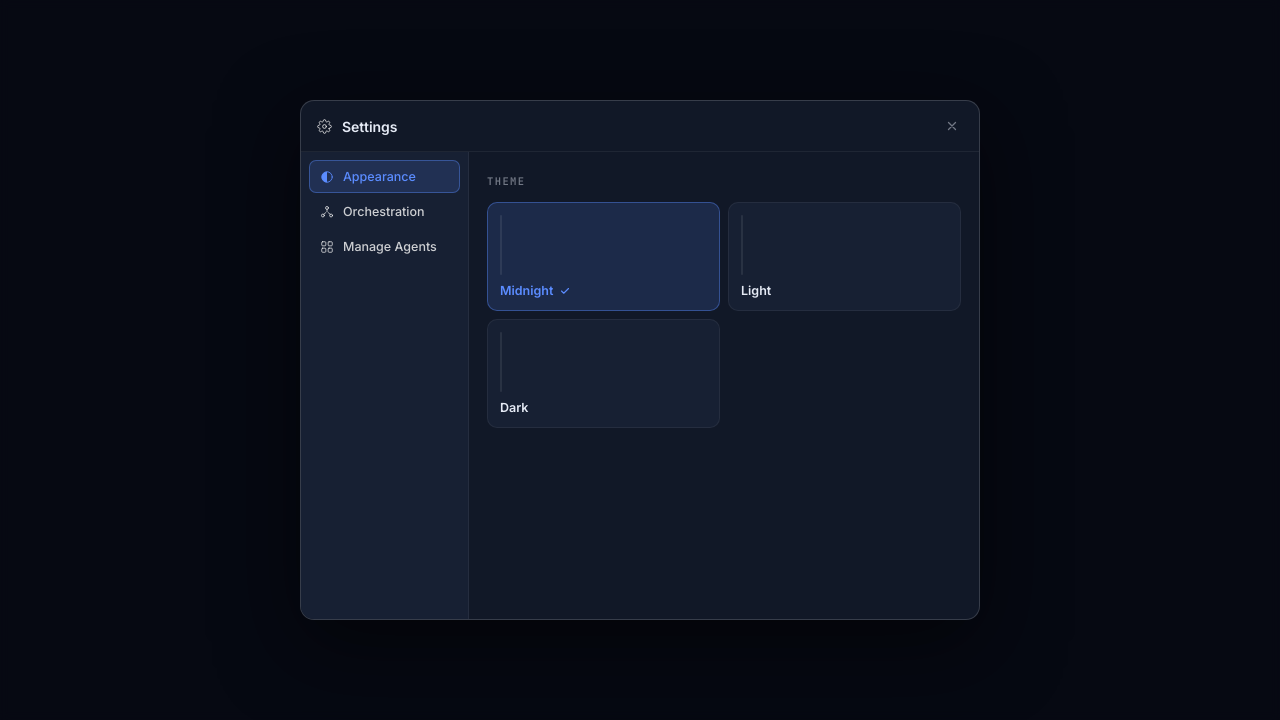
Test: SettingsModal model catalog › does not break the rest of settings when the catalog fails to load
This screenshot has width=1280, height=720.
Step 1. Click the button "Manage Agents" → click(384, 246), box [309, 230, 460, 263]
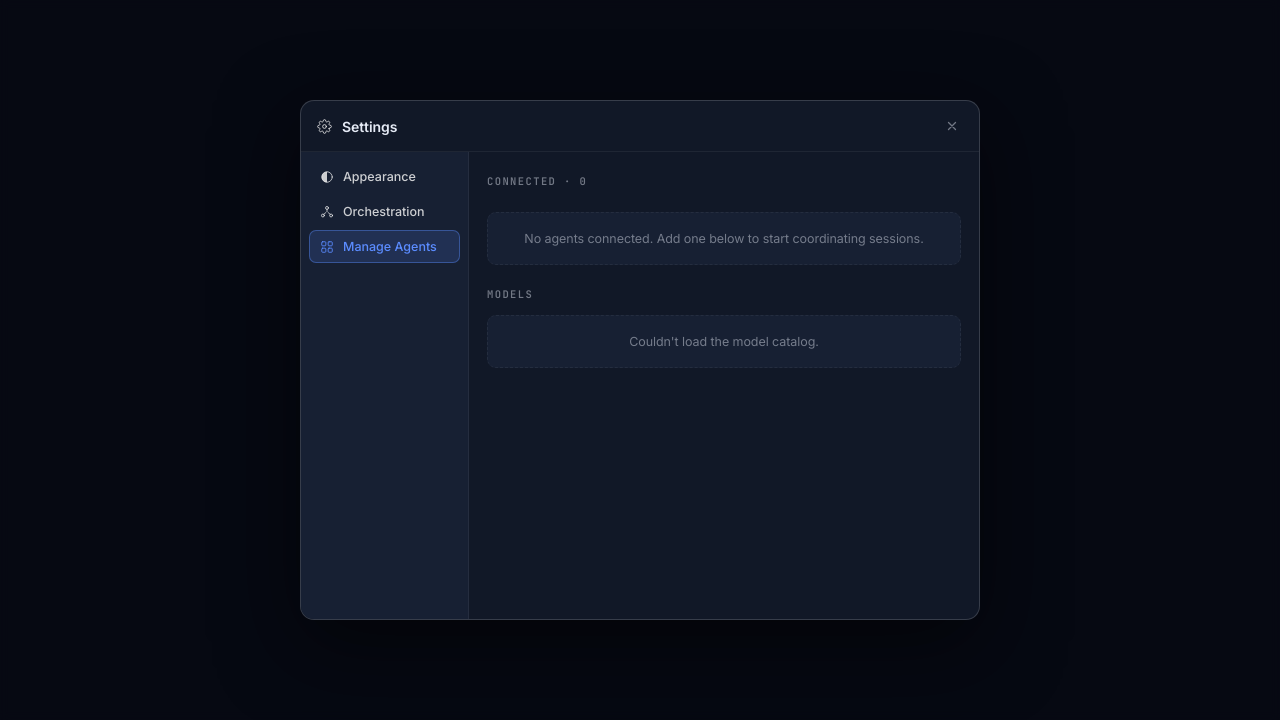
Expected: the text "Couldn't load the model catalog." is shown, [487, 315, 961, 368]
Step 2. Click the button "Appearance" → click(384, 176), box [309, 160, 460, 193]
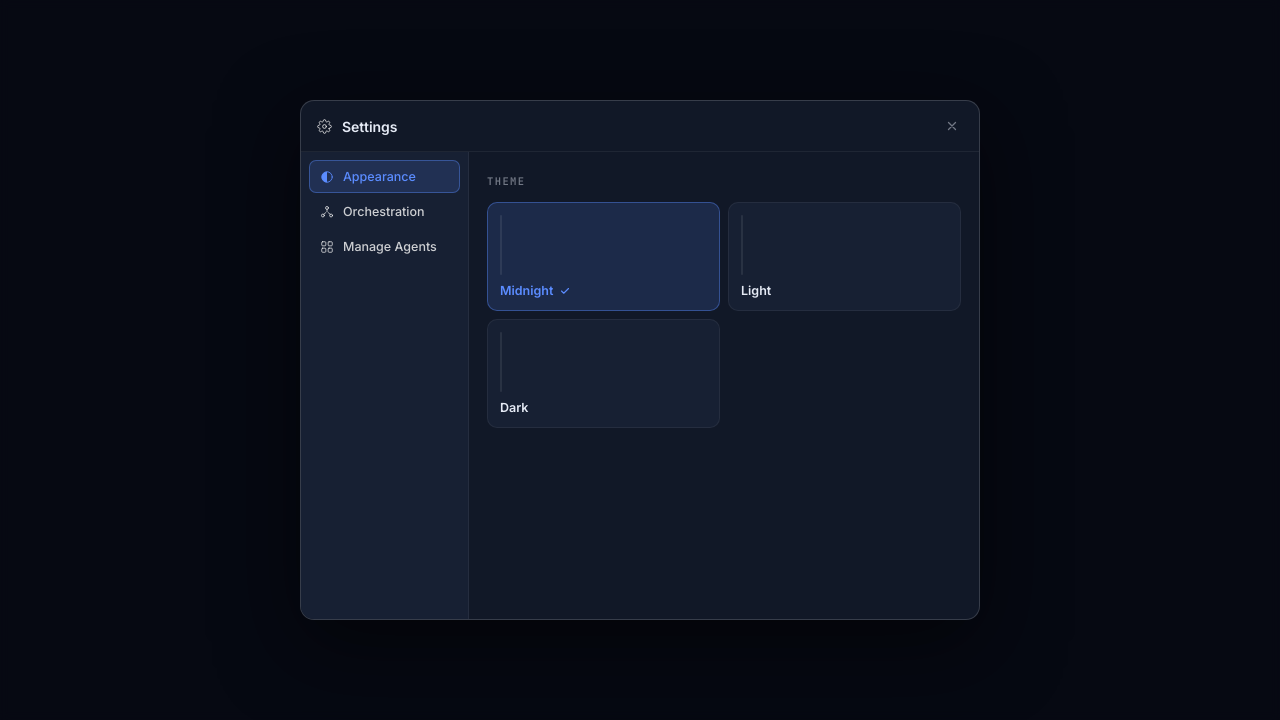
Expected: the text "Theme" is shown, [487, 174, 526, 188]
